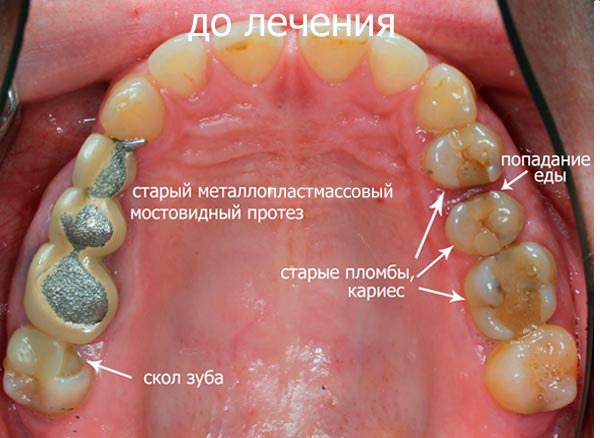UL1BC_decay: (429, 125, 498, 186)
UL1M_decay: (470, 244, 555, 339)
UL2BC_decay: (454, 193, 523, 254)
UL2M_decay: (490, 328, 576, 410)
ULCI_decay: (299, 37, 368, 82)
ULC_healthy: (420, 67, 475, 127)
ULLI_healthy: (371, 39, 426, 91)
UR1BC_decay: (74, 136, 133, 196)
UR1M_decay: (25, 247, 117, 342)
UR2BC_decay: (50, 189, 126, 255)
UR2M_decay: (4, 328, 85, 411)
URCI_decay: (214, 37, 282, 82)
URC_healthy: (102, 75, 163, 139)
URLI_decay: (149, 43, 206, 95)
